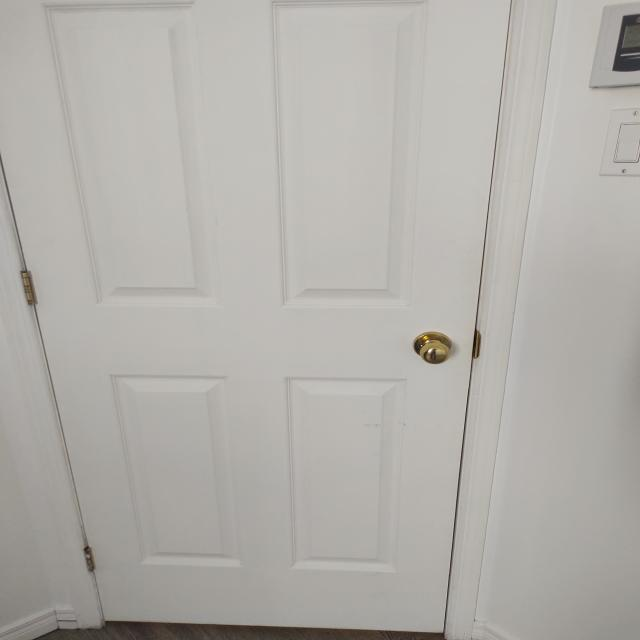door-knob: (413, 331, 451, 364)
